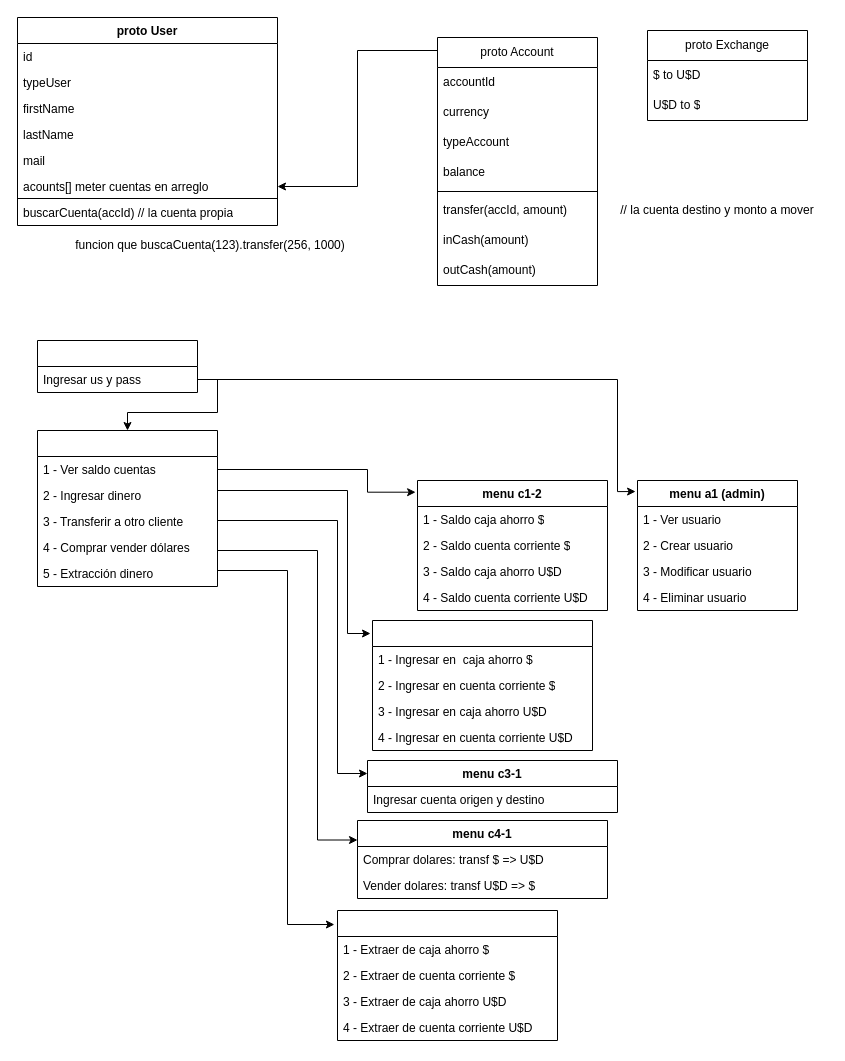
This 845x1061 diagram has some shape labels left out. The box of each missing label's shape, as (x1, y1, x2, y2) in pixels:
menu 1: (36, 340, 198, 392)
menu c1 (customer): (36, 430, 218, 586)
menu c2-1: (372, 620, 592, 750)
menu c5-1: (336, 910, 558, 1040)
